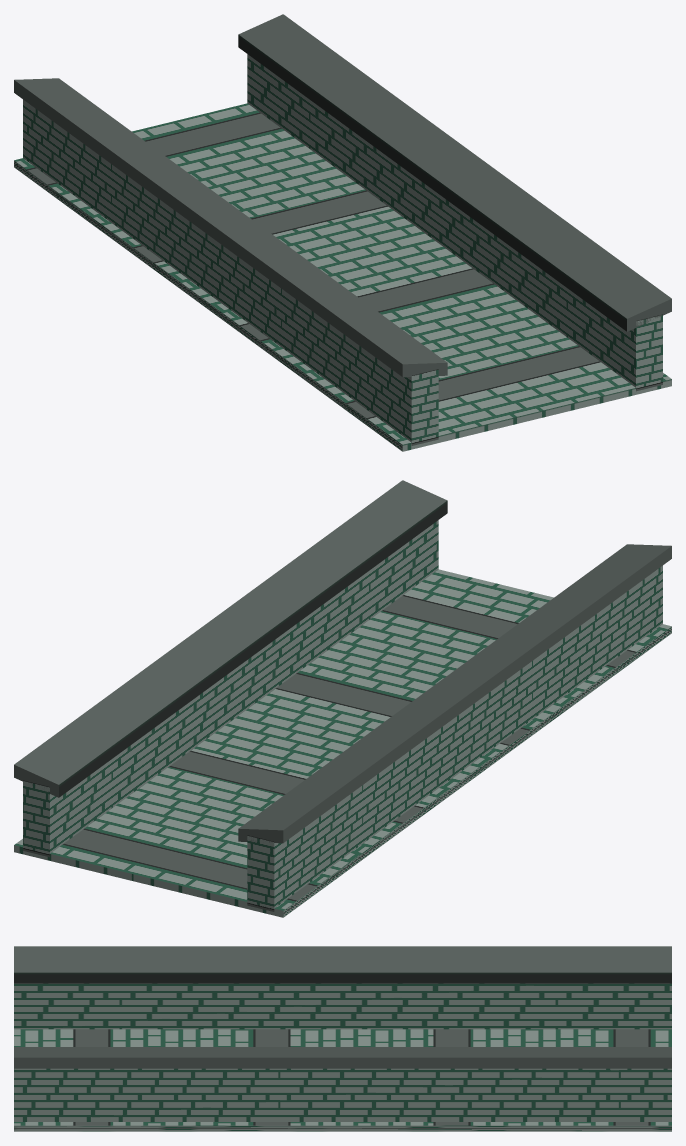
The model's file is StonePath.fbx.
The picture shows the model from 3 angles, top to bottom: view 1: azimuth 30°, elevation 25°; view 2: azimuth 150°, elevation 25°; view 3: azimuth 270°, elevation 25°; orthographic projection. The views are drawn at different scales.
Parts seen in each view (by area): view 1: StonePath; view 2: StonePath; view 3: StonePath.
Boxes of the visible parts, bbox=[...] form: StonePath: bbox=[14, 14, 671, 451]; StonePath: bbox=[14, 480, 671, 917]; StonePath: bbox=[14, 946, 671, 1131].
Bounding box in the file's own units: 1600 × 497 × 4000.
